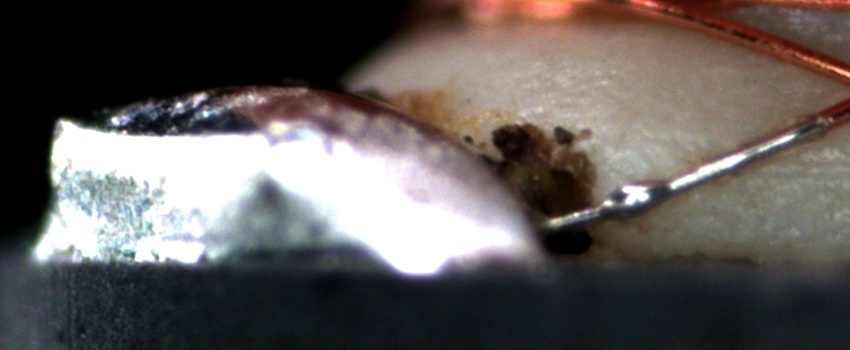DL: (756, 140, 849, 198)
TB: (596, 178, 676, 225)
TS: (539, 116, 827, 232)
TTCW: (546, 93, 847, 238)
